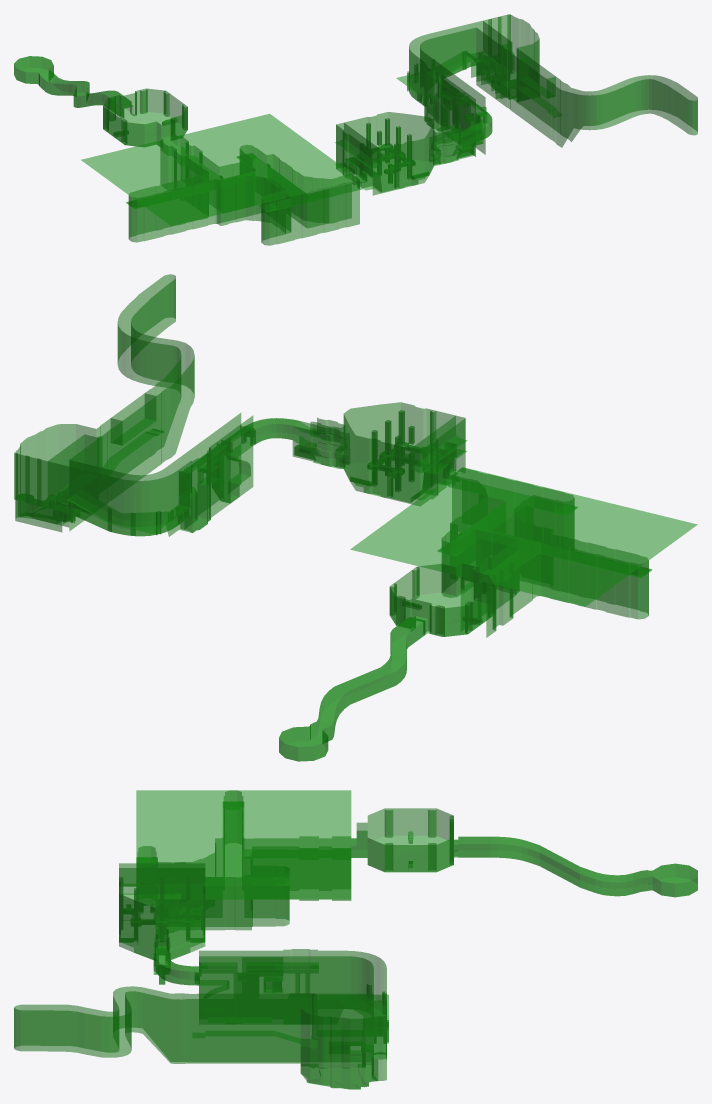
Rendered from stg121_C_hit.hit_C.obj.
3 views of the same model, one above another, from view 1: azimuth 30°, elevation 25°; view 2: azimuth 150°, elevation 25°; view 3: azimuth 270°, elevation 25° (orthographic). The views are drawn at different scales.
Size of the model in its own units: 303 by 55.99 by 316.
